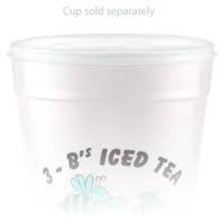paper_cup: (0, 27, 224, 224)
